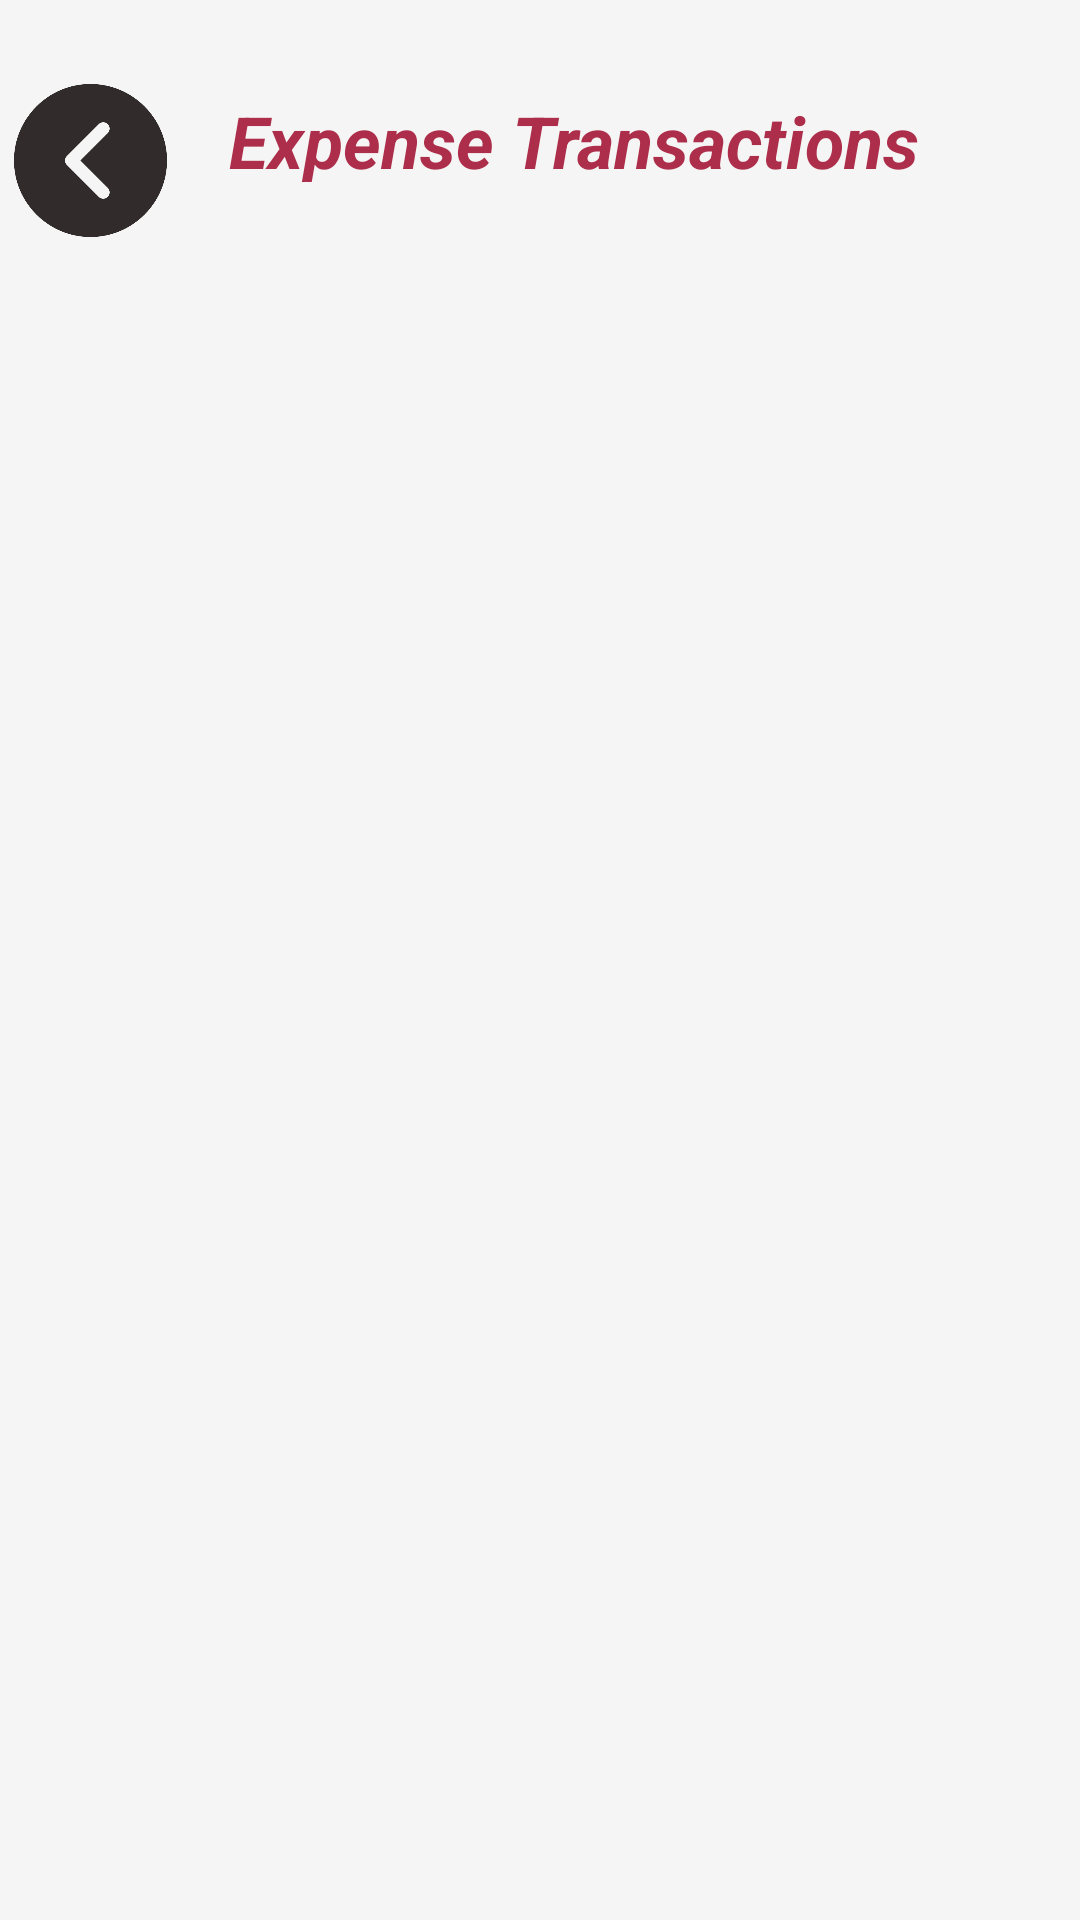

Where icons sit on this 1080 x 1920 app screen, as bbox=[x1, y1, x2, y2]:
previous: bbox=[14, 84, 167, 237]
